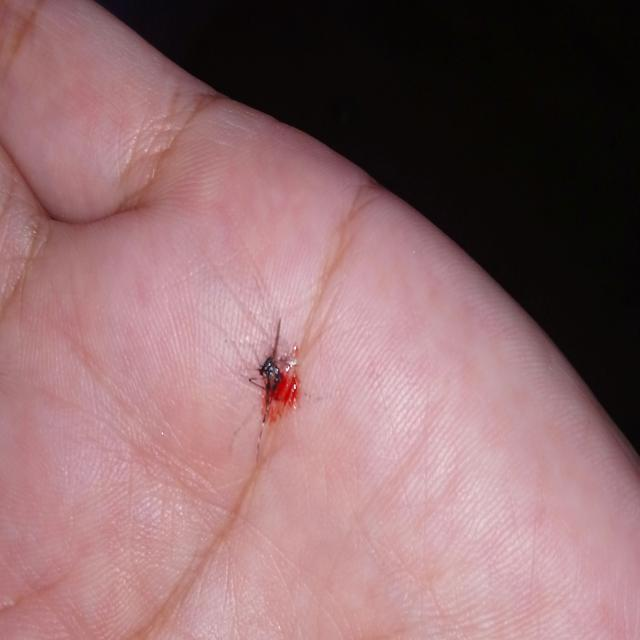albopictus: (236, 306, 304, 461)
